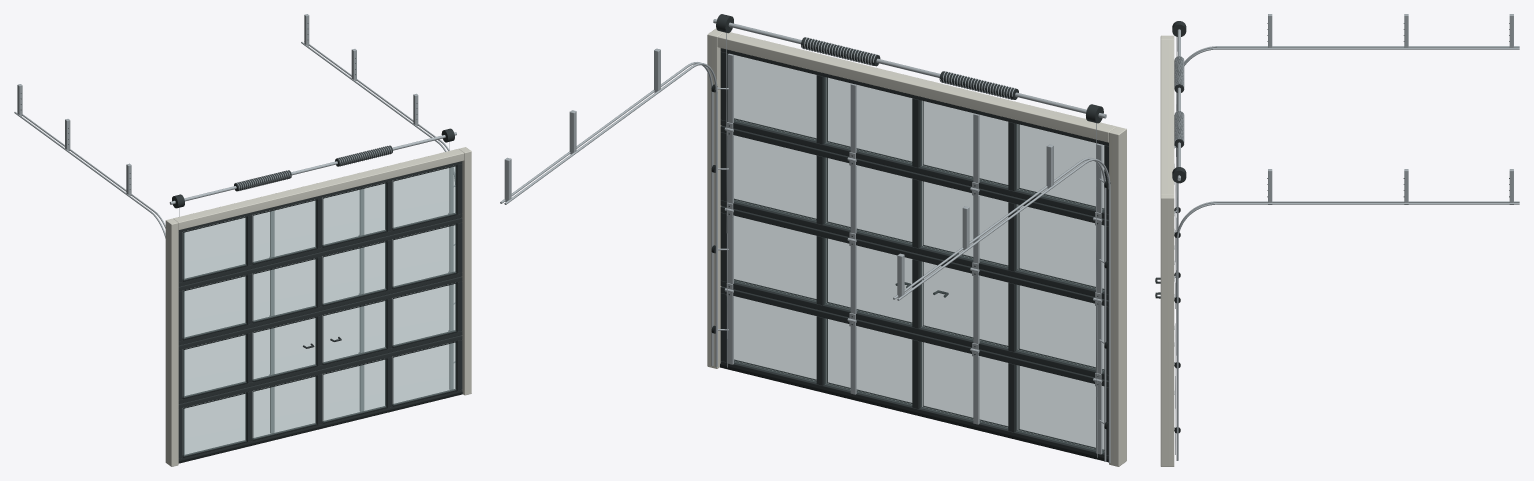
Rendered from garage-door-full-view.glb.
3 views of the same model, side by side, from view 1: azimuth 30°, elevation 25°; view 2: azimuth 150°, elevation 25°; view 3: azimuth 270°, elevation 25° (orthographic). The views are drawn at different scales.
Parts seen in each view (by area): view 1: garage-door-full-view authored assembly; view 2: garage-door-full-view authored assembly; view 3: garage-door-full-view authored assembly.
Part boxes in pixels (x1=…): garage-door-full-view authored assembly: x1=14, y1=14, x2=471, y2=466; garage-door-full-view authored assembly: x1=500, y1=14, x2=1126, y2=466; garage-door-full-view authored assembly: x1=1155, y1=14, x2=1519, y2=466.
Bounding box in the file's own units: 2.85 × 2.4 × 2.7.
